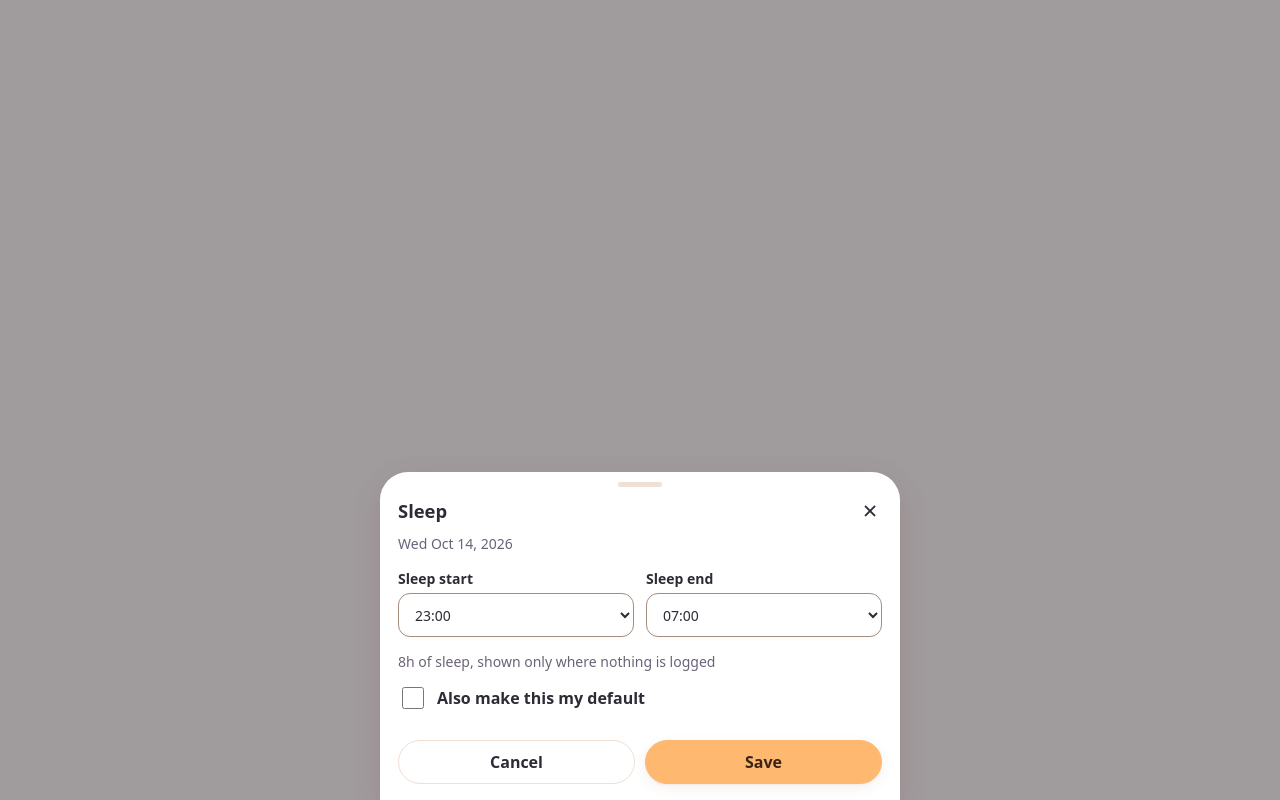
Test: SleepSheet › starts from the current window and shows the resulting hours
The image size is (1280, 800).
Expected: the dropdown labelled "Sleep start" shows "23:00", top-left (398, 593), bottom-right (634, 637)
Expected: the text "8h of sleep, shown only where nothing is logged" is shown, top-left (398, 652), bottom-right (715, 671)
Select "06:30" in the dropdown labelled "Sleep end" at (764,615), box top-left (646, 593), bottom-right (882, 637)
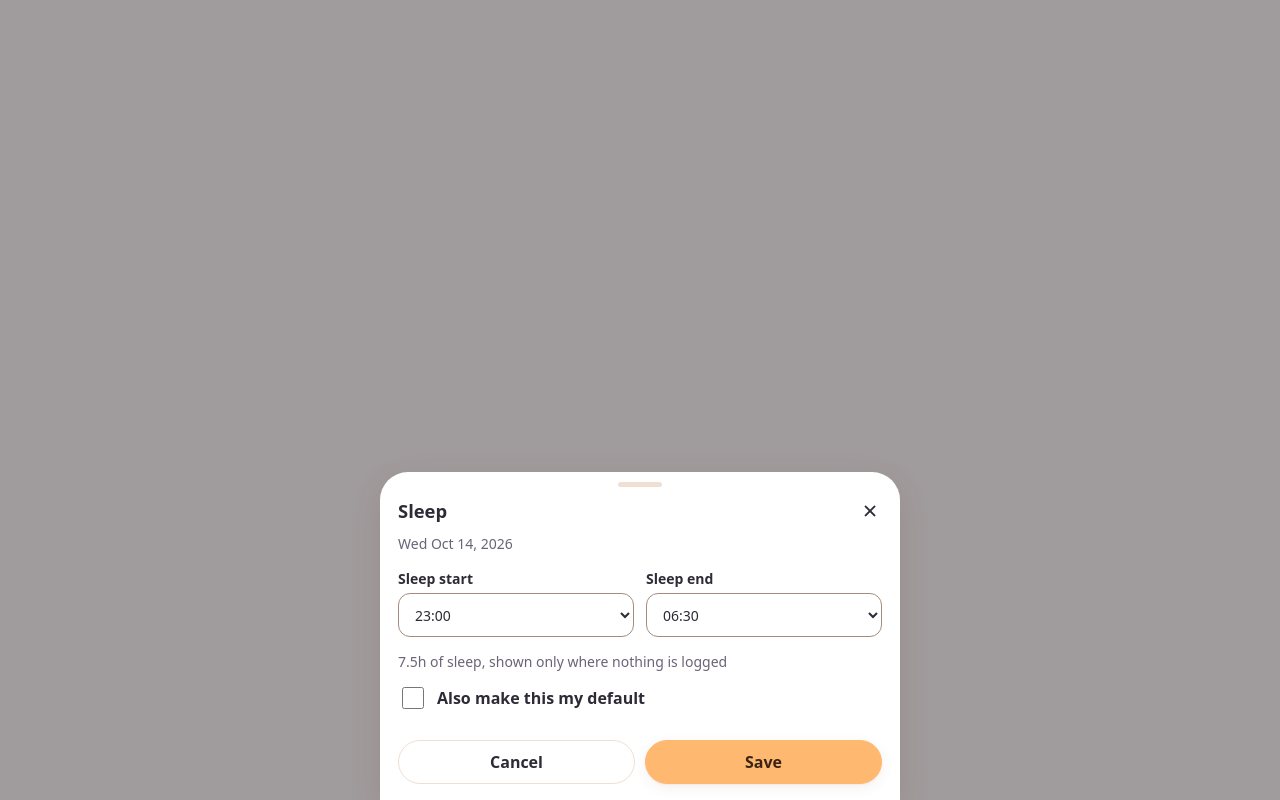
Result: the text "7.5h of sleep, shown only where nothing is logged" is shown at top-left (398, 652), bottom-right (727, 671)
